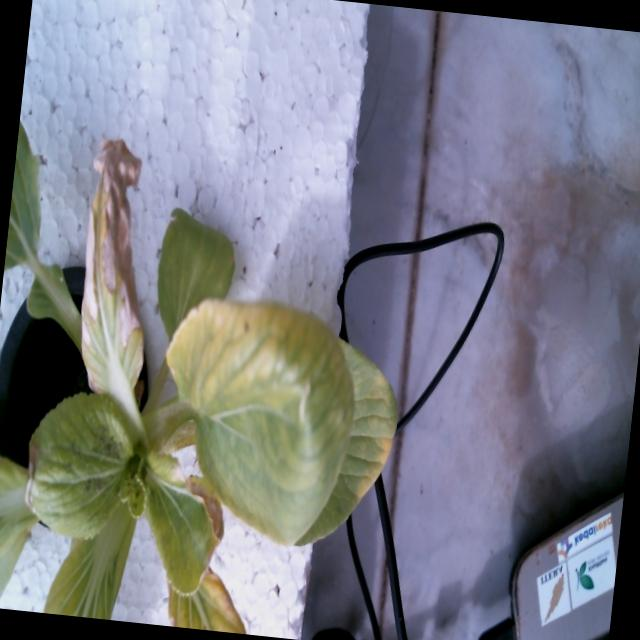pakcoy_tidak_sehat: (0, 113, 430, 640)
